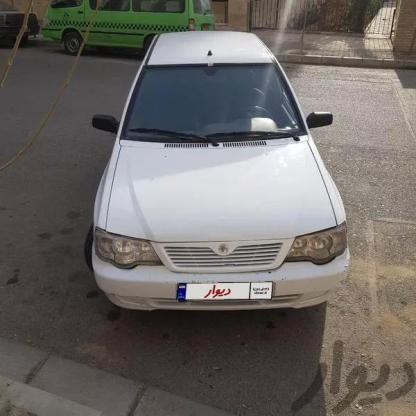Car: (87, 32, 360, 322), (37, 0, 235, 49), (0, 7, 27, 57)
